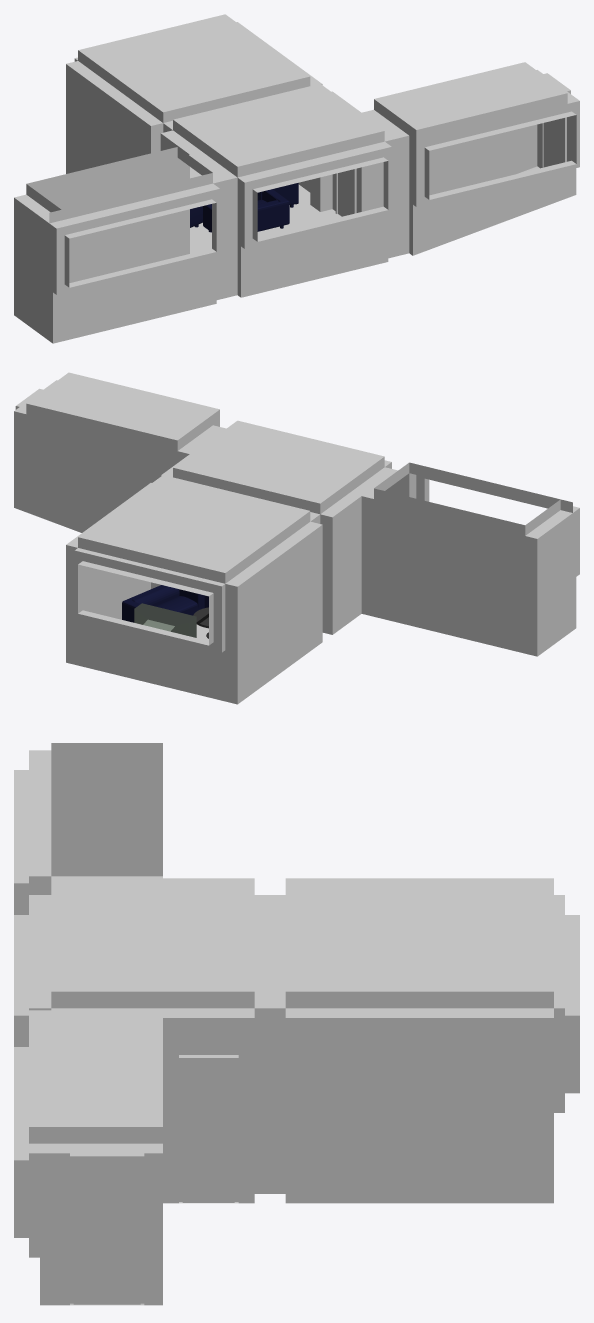
File: room.fbx
3 renders of one model, top to bottom at view 1: azimuth 30°, elevation 25°; view 2: azimuth 150°, elevation 25°; view 3: azimuth 270°, elevation 25°, orthographic. The views are drawn at different scales.
Visible parts, largest first — view 1: room; view 2: room, couch, TV; view 3: room.
Boxes of the visible parts, x1,y1,x2,y2 form: room: (14, 14, 579, 343); room: (14, 372, 579, 704); couch: (122, 585, 204, 622); TV: (134, 603, 196, 637); room: (14, 743, 579, 1305).
Size of the model in its own units: 1290 by 300 by 760.
